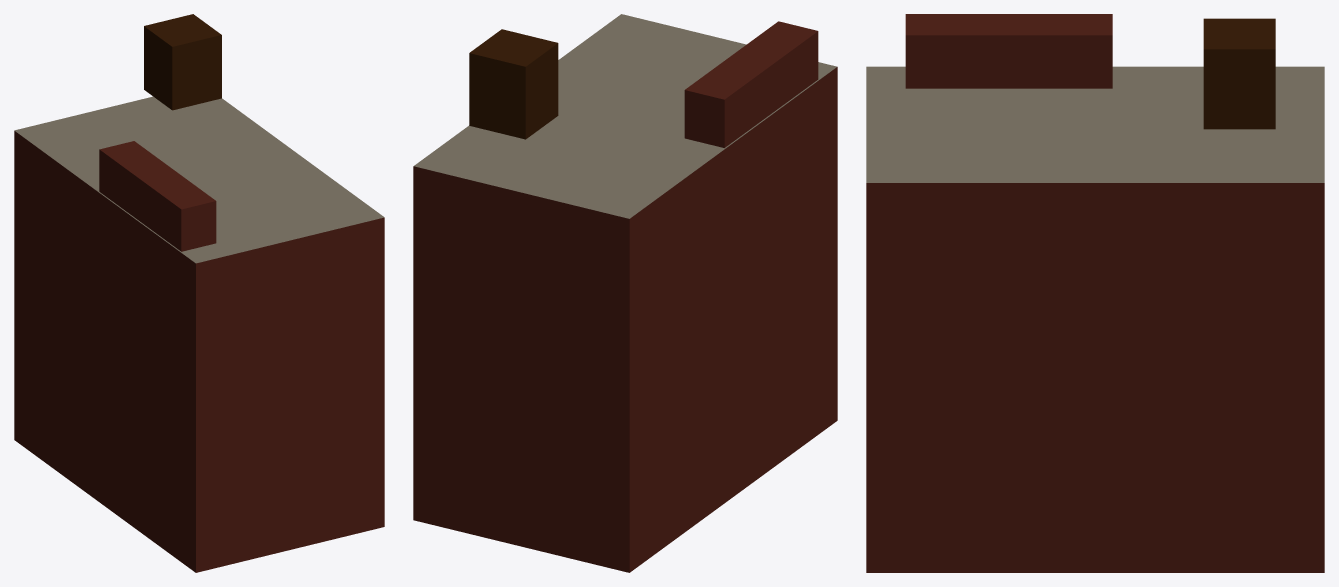
File: mh-tenement.towns-v1.lod2.glb
The picture shows the model from 3 angles, left to right: view 1: azimuth 30°, elevation 25°; view 2: azimuth 150°, elevation 25°; view 3: azimuth 270°, elevation 25°; orthographic projection. The views are drawn at different scales.
Parts seen in each view (by area): view 1: mh-tenement; view 2: mh-tenement; view 3: mh-tenement.
Boxes of the visible parts, x1,y1,x2,y2 form: mh-tenement: (14,14,384,572); mh-tenement: (413,14,837,572); mh-tenement: (866,14,1324,572).
Bounding box in the file's own units: 8.4 × 17.05 × 14.
